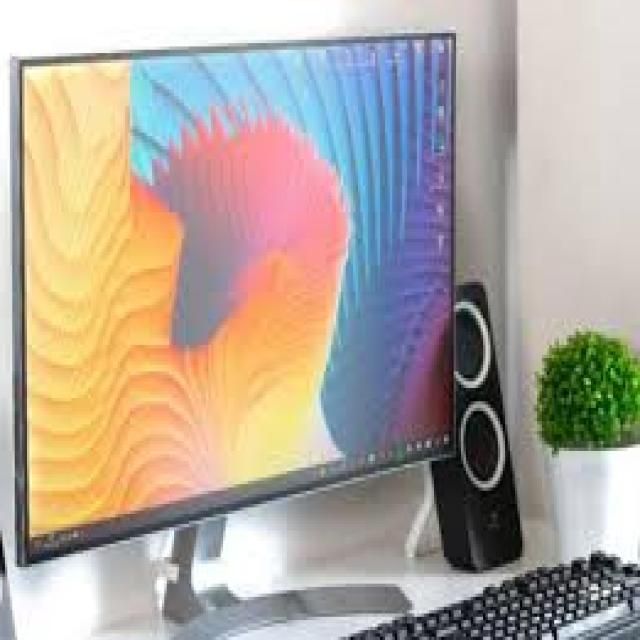monitor: (0, 16, 467, 640)
